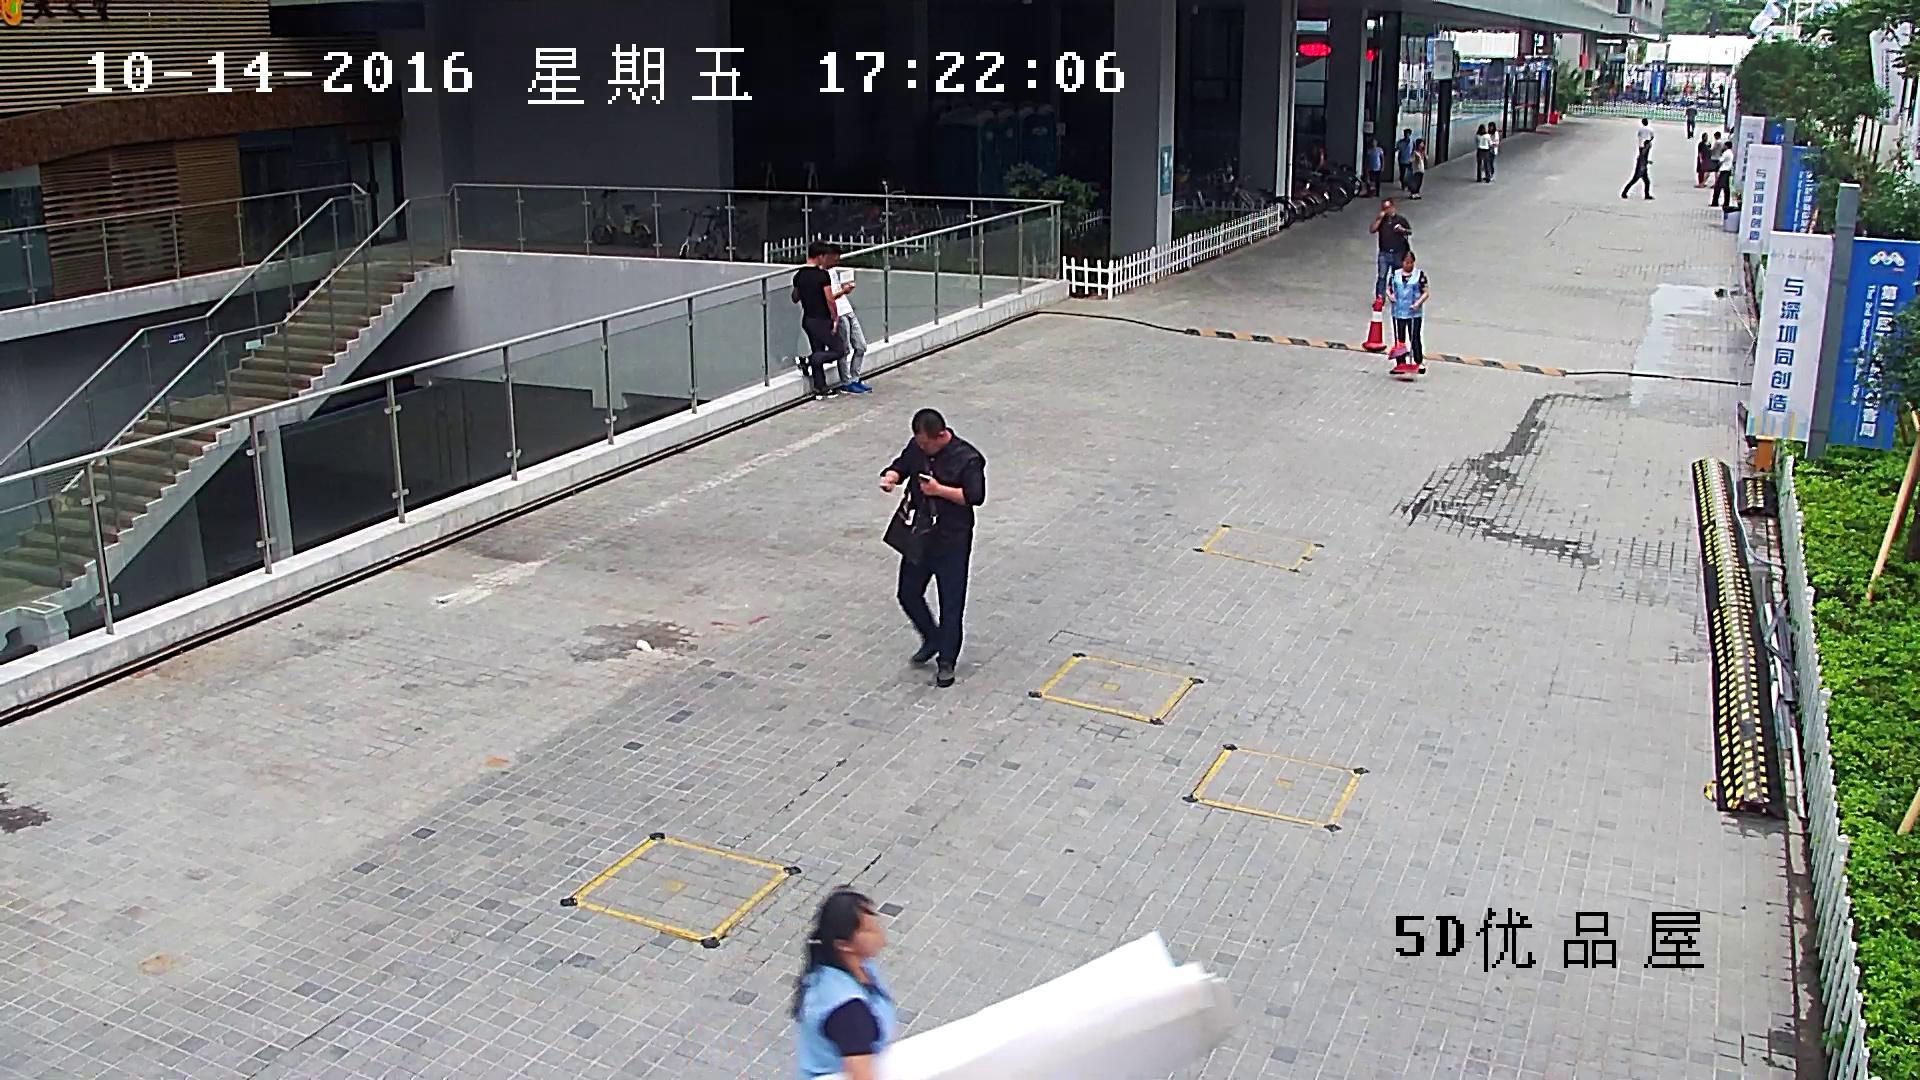person: (786, 880, 1244, 1080), (878, 406, 987, 689), (787, 883, 897, 1080), (791, 242, 844, 400), (822, 242, 873, 394), (1387, 251, 1429, 375), (1368, 198, 1411, 307), (1621, 140, 1654, 199), (1708, 140, 1733, 206), (1365, 137, 1384, 197), (1704, 132, 1723, 189), (1395, 129, 1413, 189), (1475, 125, 1491, 183), (1483, 122, 1499, 179), (1410, 138, 1424, 199), (1696, 132, 1711, 186), (1637, 117, 1654, 163), (1685, 102, 1697, 139)
